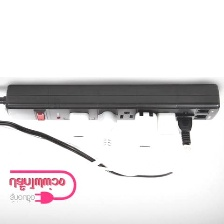three_eye_plug: (0, 79, 223, 123)
